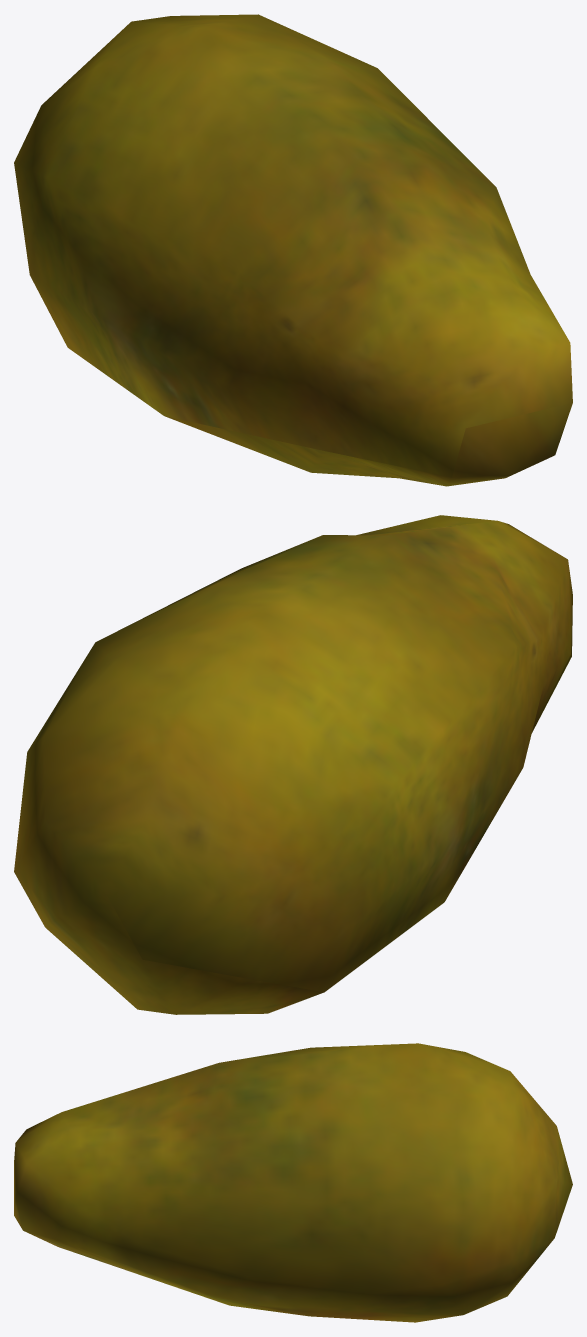
The model's file is PapayaRipe_LOD0.fbx.
3 views of the same model, one above another, from view 1: azimuth 30°, elevation 25°; view 2: azimuth 150°, elevation 25°; view 3: azimuth 270°, elevation 25° (orthographic). The views are drawn at different scales.
Visible parts, largest first — view 1: fruitRipe_LOD0; view 2: fruitRipe_LOD0; view 3: fruitRipe_LOD0.
Part boxes in pixels (x1,y1,x2,y2): fruitRipe_LOD0: (14, 14, 572, 486); fruitRipe_LOD0: (14, 515, 572, 1014); fruitRipe_LOD0: (14, 1043, 572, 1322).
Bounding box in the file's own units: 0.1377 × 0.1463 × 0.2811.
